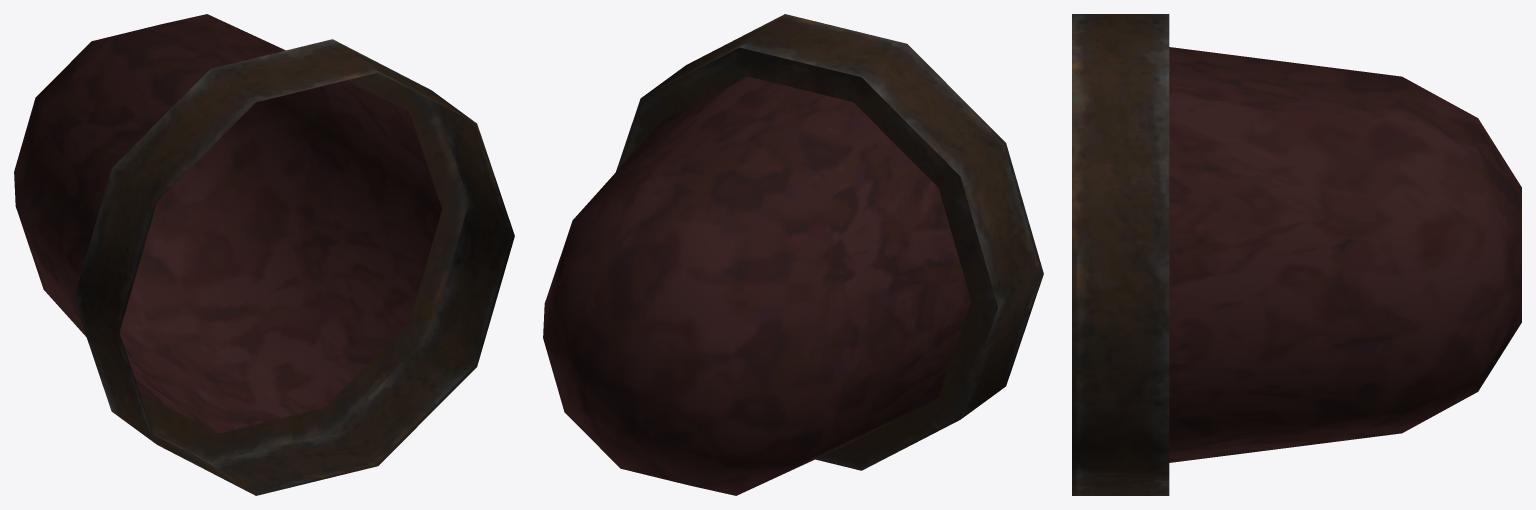
File: sewer_lights_03.DAE
3 renders of one model, left to right at view 1: azimuth 30°, elevation 25°; view 2: azimuth 150°, elevation 25°; view 3: azimuth 270°, elevation 25°, orthographic. The views are drawn at different scales.
Visible parts, largest first — view 1: sluice_light_03; view 2: sluice_light_03; view 3: sluice_light_03.
Boxes of the visible parts, bbox=[...] form: sluice_light_03: bbox=[14, 14, 514, 495]; sluice_light_03: bbox=[543, 14, 1043, 495]; sluice_light_03: bbox=[1072, 14, 1521, 495].
Bounding box in the file's own units: 0.3138 × 0.2906 × 0.2985.
